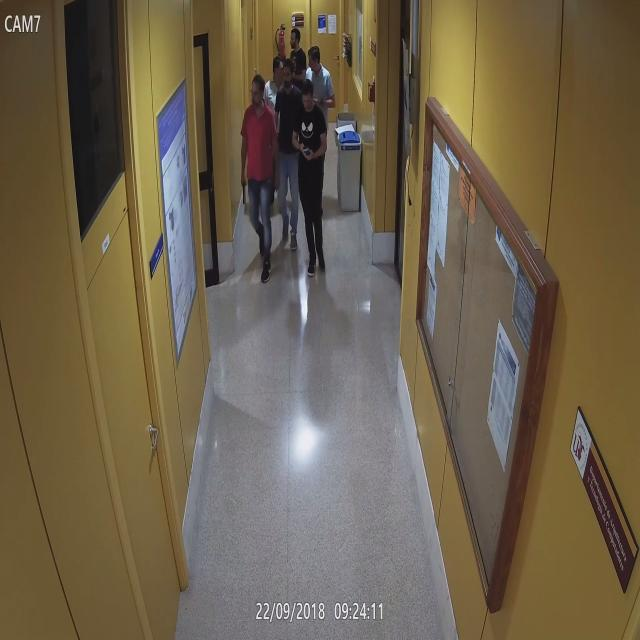Gun: (234, 176, 248, 217)
